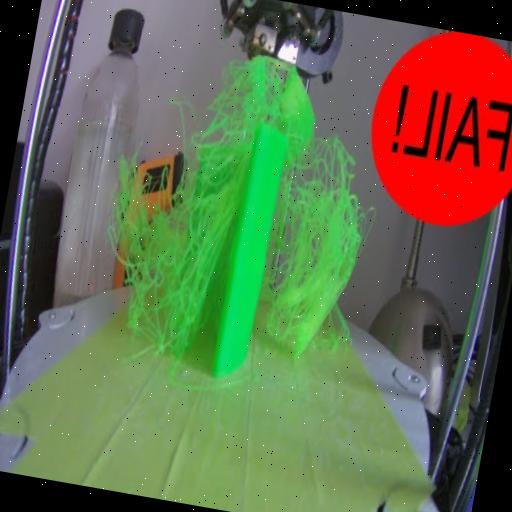spaghetti: (78, 108, 256, 392), (250, 130, 388, 392), (216, 40, 331, 132)
